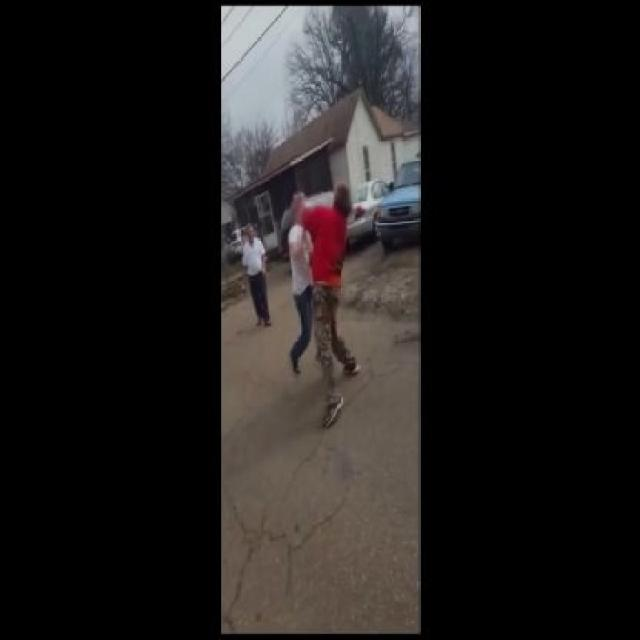fight: (284, 182, 362, 432)
non-fight: (285, 195, 316, 377), (240, 224, 272, 326)
